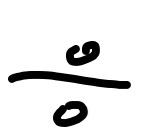div: (9, 41, 130, 125)
